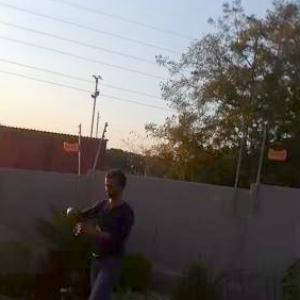follow: (52, 165, 139, 299)
